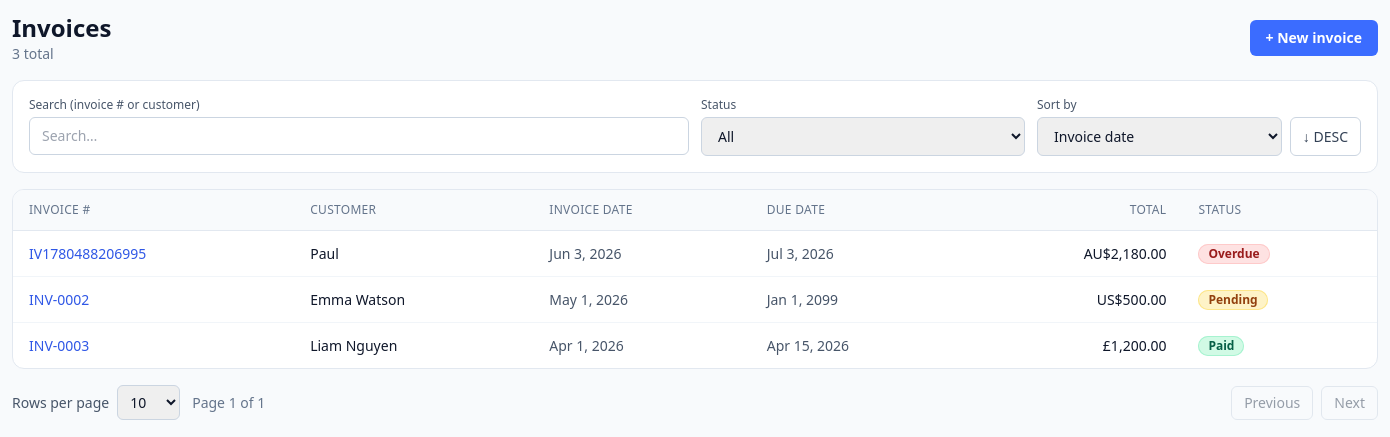
Test case: InvoiceListPage › searches by keyword (case-insensitive, partial)
This screenshot has width=1390, height=437.
Expected: the row with test id "invoice-row" that starts with "IV1780488206995" is shown, [13,230,1377,276]
Type "emma" into the field labelled "Search (invoice # or customer)" at (359, 136), box [29,117,689,155]
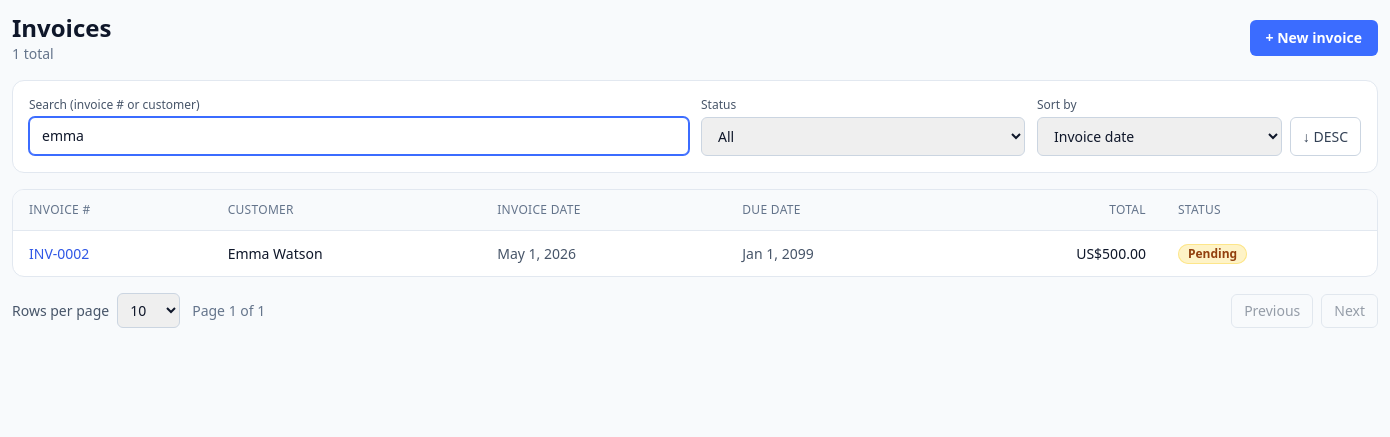
Expected: the text "Emma Watson" is shown, [212,230,481,276]
Expected: the number of rows with test id "invoice-row" is 1, [13,230,1377,276]
